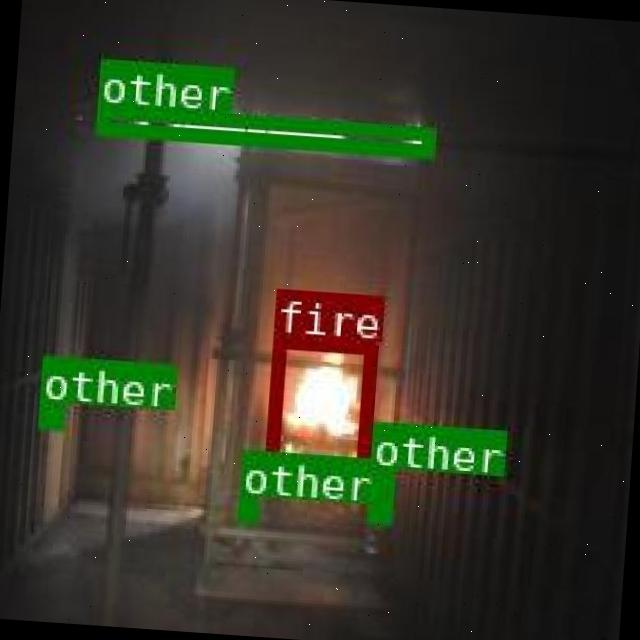fire: (260, 332, 376, 486)
